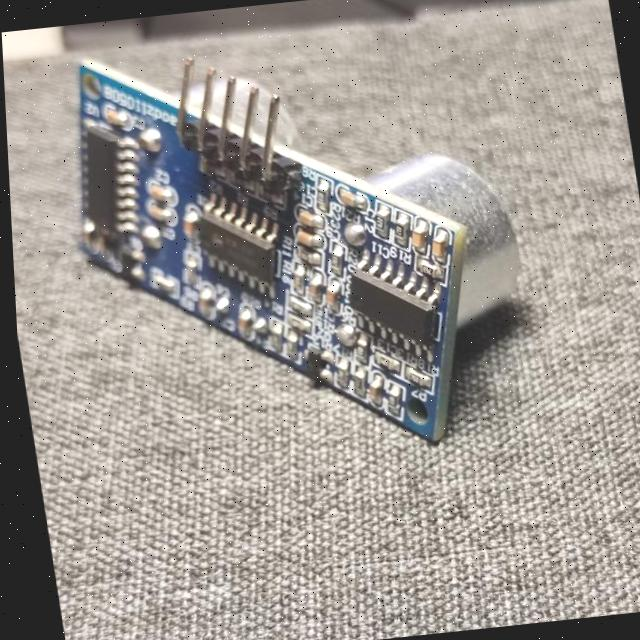Ultrasonic Sensor: (47, 25, 574, 487)
